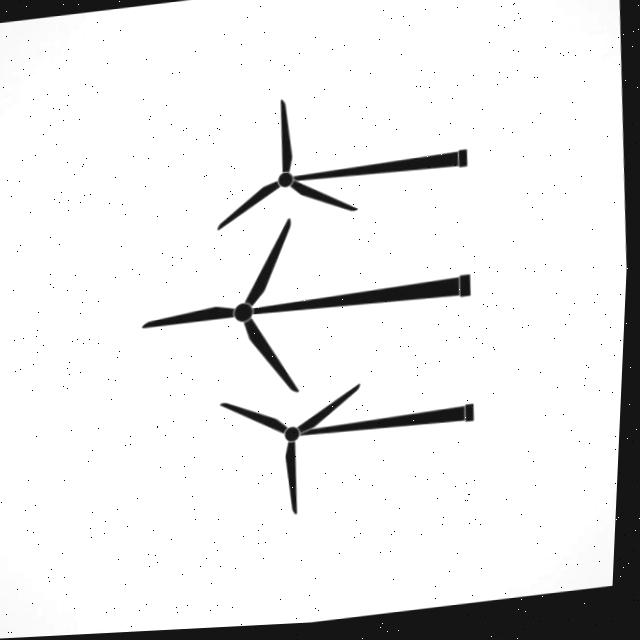solid-blade: (249, 321, 301, 394), (248, 222, 292, 307), (302, 387, 363, 434), (220, 183, 280, 230), (224, 404, 290, 435), (293, 184, 358, 213), (145, 308, 236, 327), (282, 101, 293, 174), (289, 445, 300, 516)
